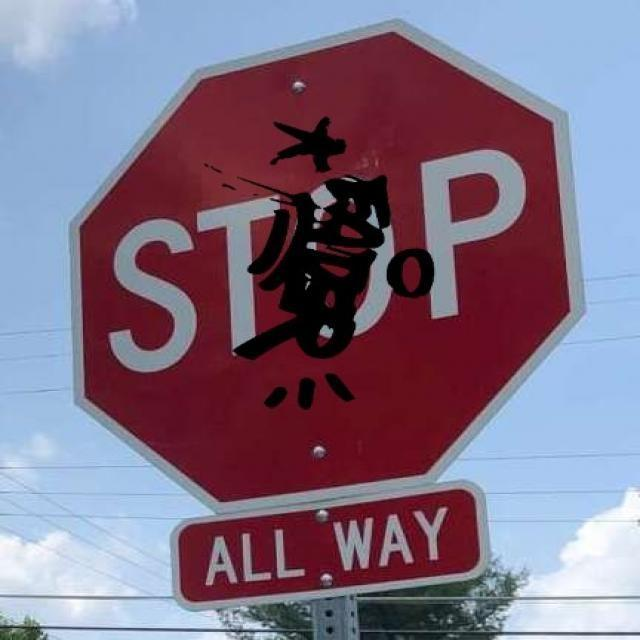Stop-Sign: (91, 66, 571, 487)
